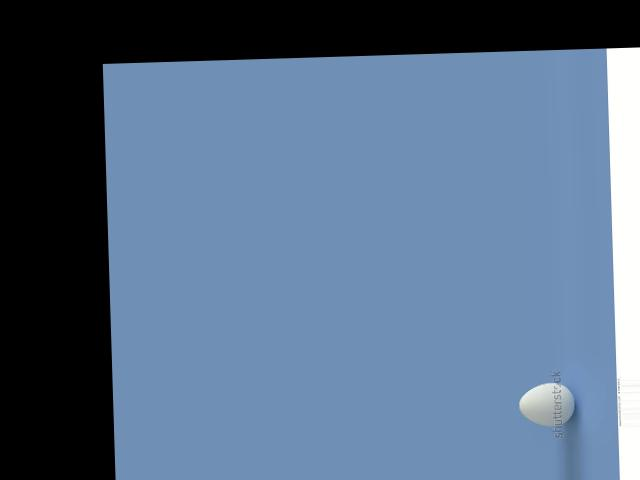egg: (518, 381, 575, 426)
